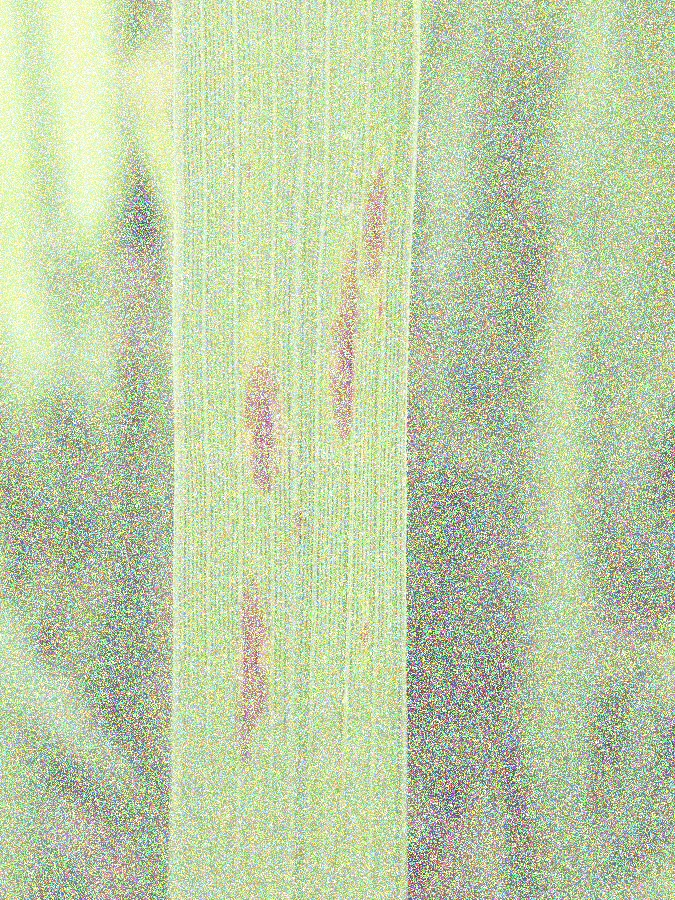Bacterial_Leaf_Blight: (215, 558, 276, 780), (224, 336, 295, 503), (321, 235, 366, 450), (347, 155, 393, 299), (343, 590, 381, 663)
